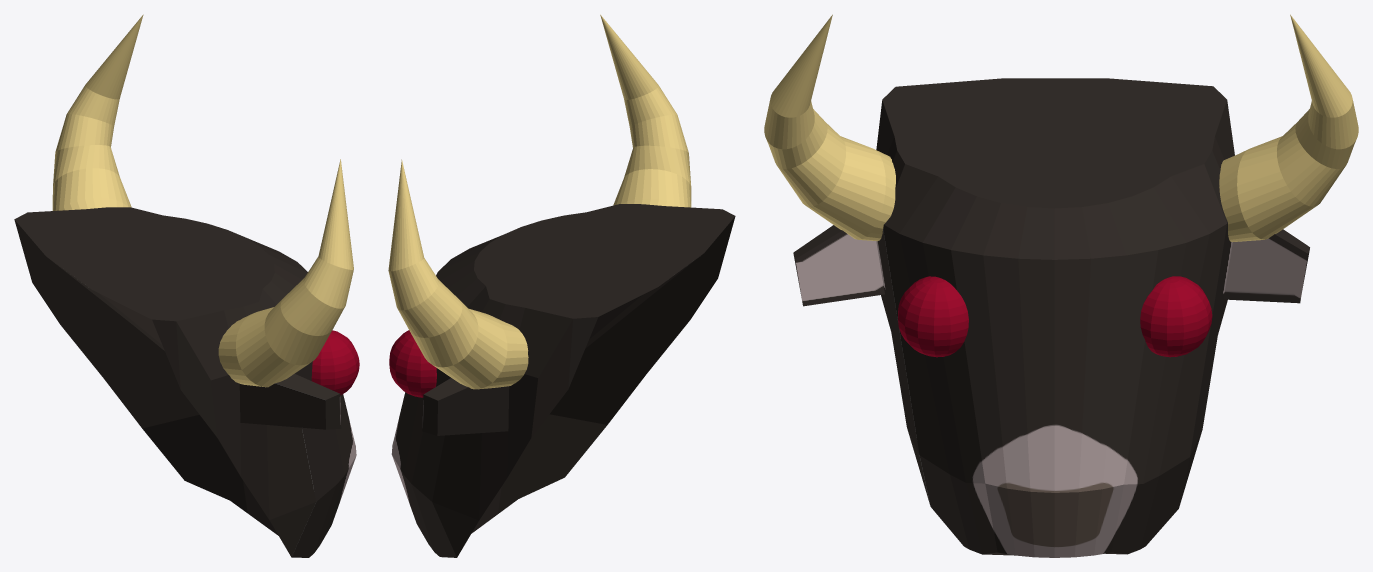
Rendered from mask.fbx.
The picture shows the model from 3 angles, left to right: view 1: azimuth 30°, elevation 25°; view 2: azimuth 150°, elevation 25°; view 3: azimuth 270°, elevation 25°; orthographic projection. The views are drawn at different scales.
Parts seen in each view (by area): view 1: Cylinder, Cylinder.001, Cylinder.002, Sphere; view 2: Cylinder, Cylinder.002, Cylinder.001, Sphere.001; view 3: Cylinder, Cylinder.002, Cylinder.001, Sphere.001, Sphere.
Part boxes in pixels (x1=…): Cylinder: x1=14, y1=207, x2=356, y2=557; Cylinder.001: x1=218, y1=159, x2=353, y2=387; Cylinder.002: x1=52, y1=14, x2=143, y2=210; Sphere: x1=311, y1=330, x2=359, y2=395; Cylinder: x1=391, y1=204, x2=735, y2=557; Cylinder.002: x1=388, y1=159, x2=528, y2=389; Cylinder.001: x1=600, y1=14, x2=691, y2=207; Sphere.001: x1=389, y1=330, x2=436, y2=397; Cylinder: x1=793, y1=78, x2=1309, y2=557; Cylinder.002: x1=1219, y1=14, x2=1358, y2=242; Cylinder.001: x1=764, y1=14, x2=895, y2=241; Sphere.001: x1=1140, y1=276, x2=1212, y2=357; Sphere: x1=898, y1=276, x2=968, y2=357.
Bounding box in the file's own units: 196 × 307 × 318.
Materials: 3 (1 with a texture image).
